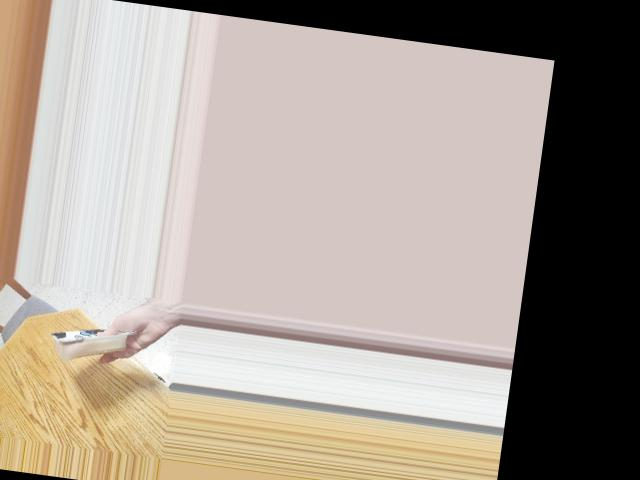cheese: (50, 304, 131, 376)
